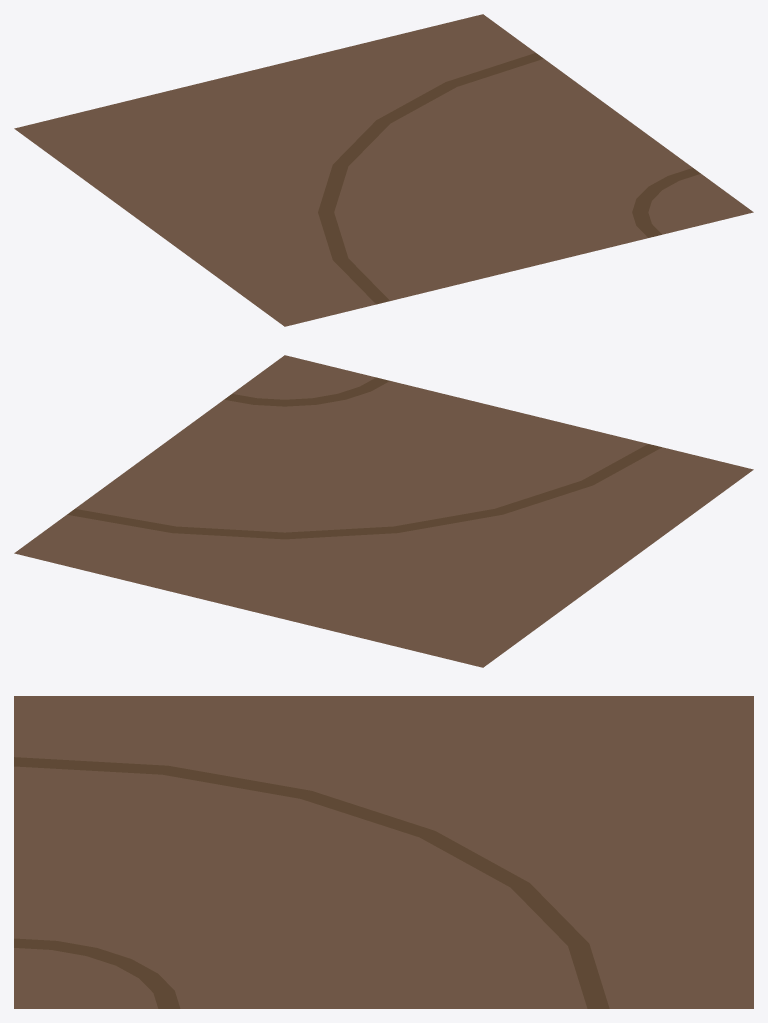
File: SPW_Medieval_Road_02.glb
3 views of the same model, one above another, from view 1: azimuth 30°, elevation 25°; view 2: azimuth 150°, elevation 25°; view 3: azimuth 270°, elevation 25° (orthographic). The views are drawn at different scales.
Visible parts, largest first — view 1: SPW_Medieval_Road_02; view 2: SPW_Medieval_Road_02; view 3: SPW_Medieval_Road_02.
Part boxes in pixels (x1,y1,x2,y2): SPW_Medieval_Road_02: (14,14,753,326); SPW_Medieval_Road_02: (14,355,753,667); SPW_Medieval_Road_02: (14,696,753,1008).
Size of the model in its own units: 5 by 6.76e-07 by 5.
Materials: 1 (1 with a texture image).
